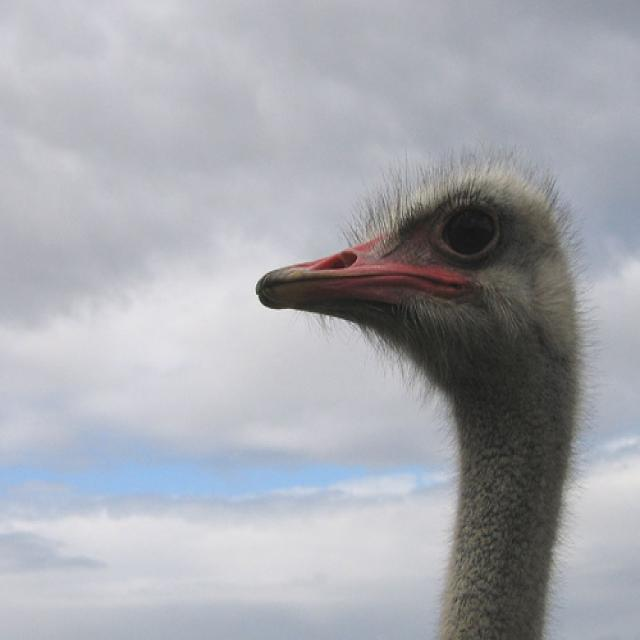bird: (255, 147, 598, 639)
